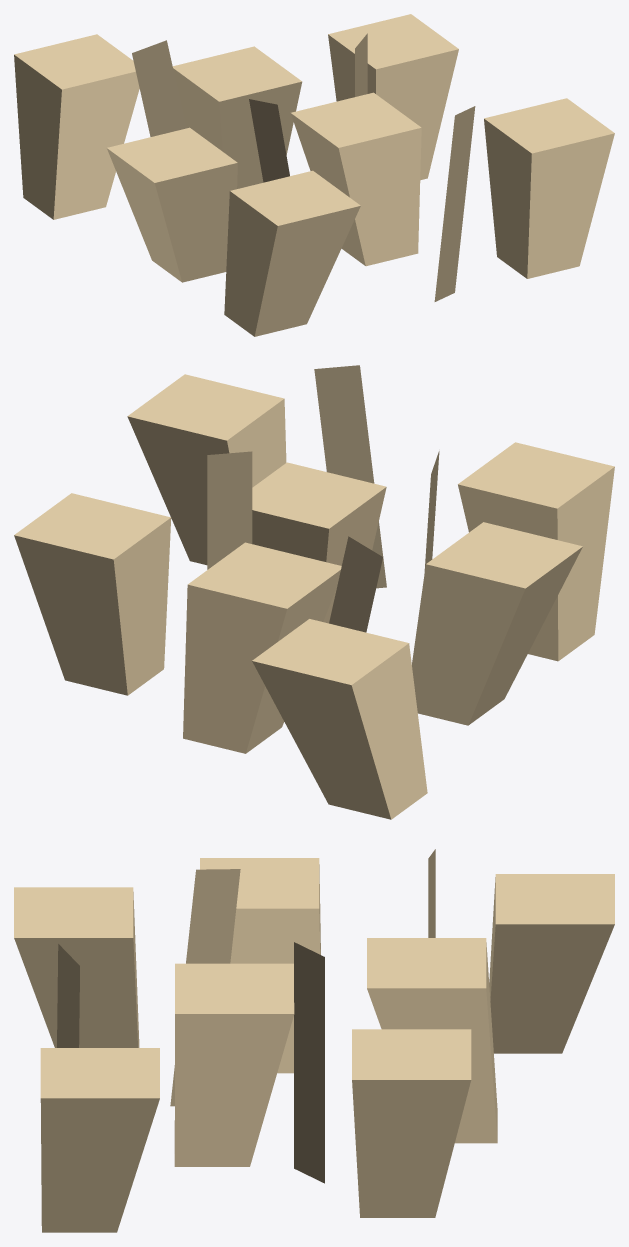
File: Trigo1.fbx
3 renders of one model, top to bottom at view 1: azimuth 30°, elevation 25°; view 2: azimuth 150°, elevation 25°; view 3: azimuth 270°, elevation 25°, orthographic. The views are drawn at different scales.
Parts seen in each view (by area): view 1: Cube.003; view 2: Cube.003; view 3: Cube.003.
Part boxes in pixels (left/top/right/bottom): Cube.003: left=14, top=14, right=614, bottom=336; Cube.003: left=14, top=365, right=614, bottom=819; Cube.003: left=14, top=849, right=614, bottom=1232.
Bounding box in the file's own units: 664 × 297 × 702.
